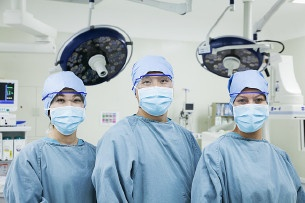Mask: (233, 92, 272, 131)
